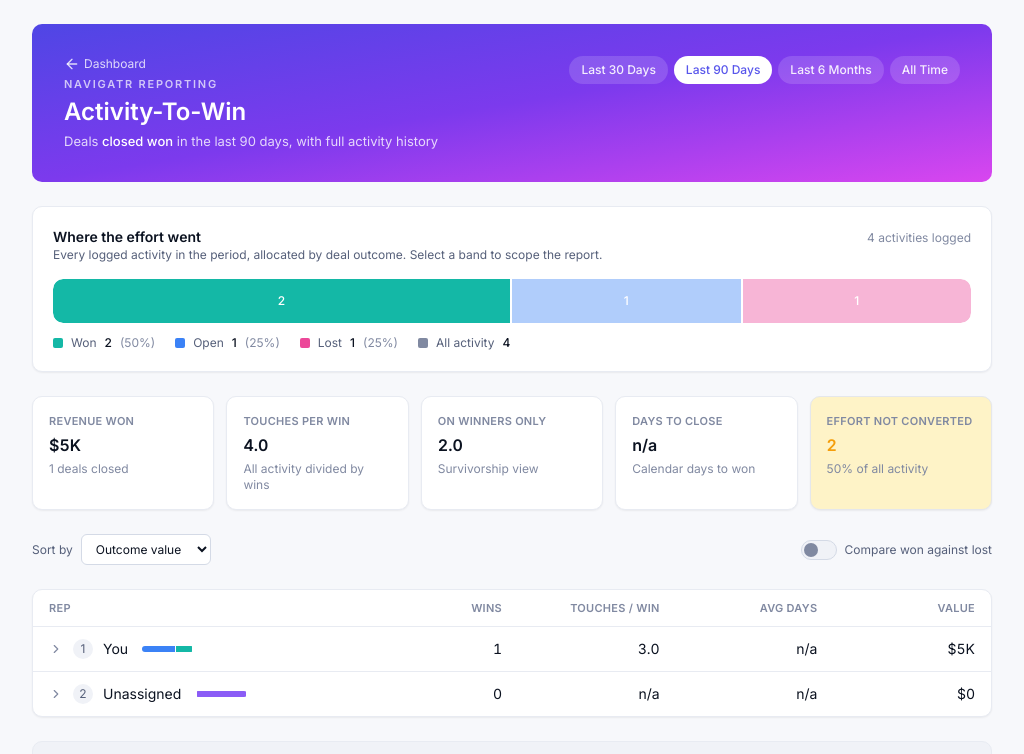
Test case: ActivityToWinReport › expands a rep row to reveal its per-company sub-table
Expected: the text "Northside Diner" is not shown
Click the text "You".
click(116, 649)  # box [103,639,128,659]
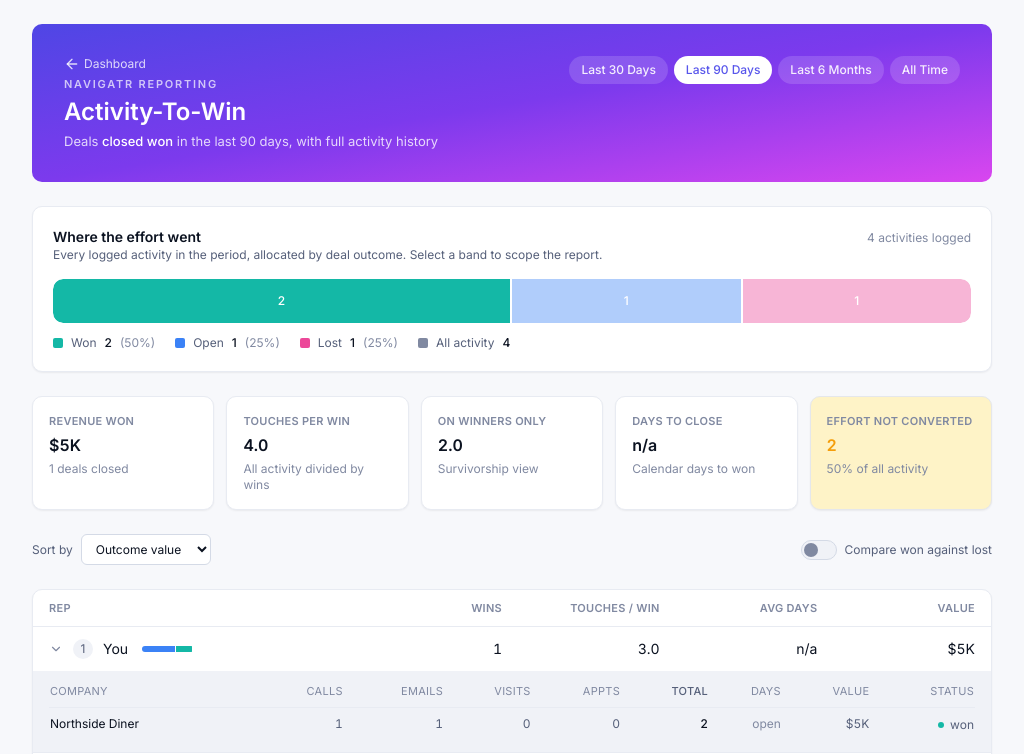
Expected: the text "Northside Diner" is shown, [49,708,256,740]
